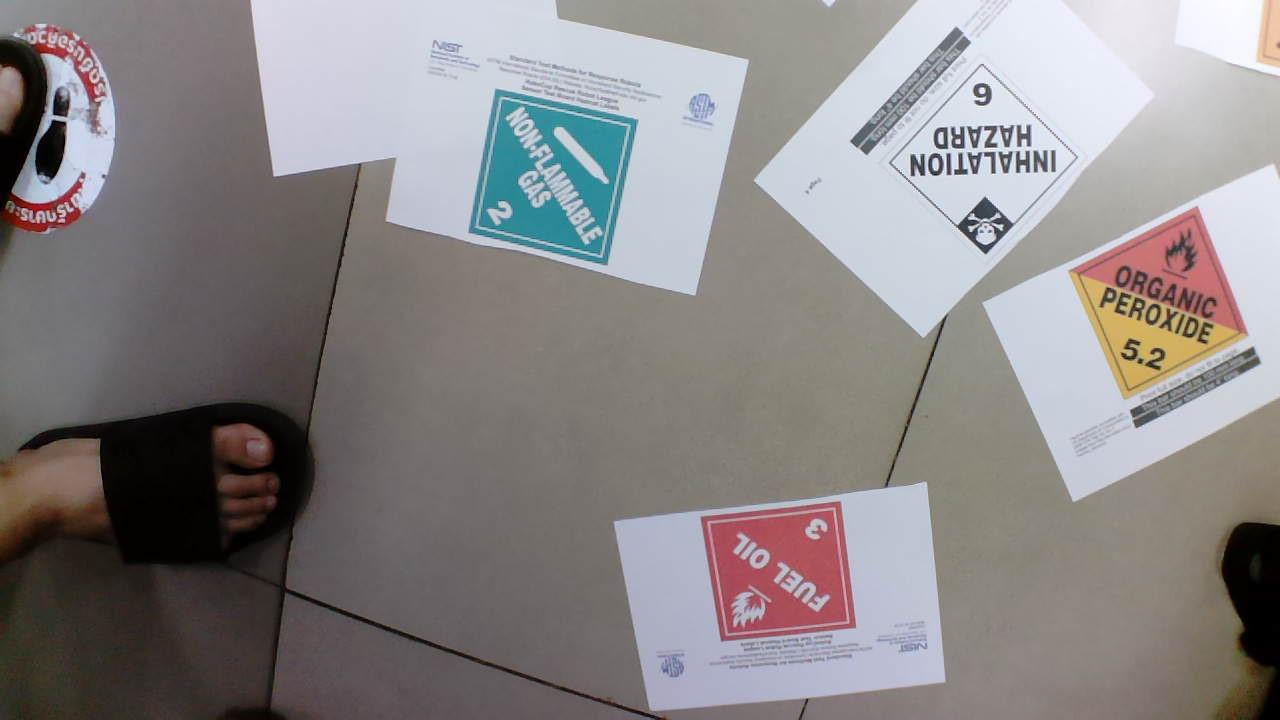flammable: (697, 506, 869, 643)
non-flammable-gas: (467, 88, 643, 268)
organic-peroxide: (1067, 198, 1253, 393)
poison: (892, 67, 1076, 257)
